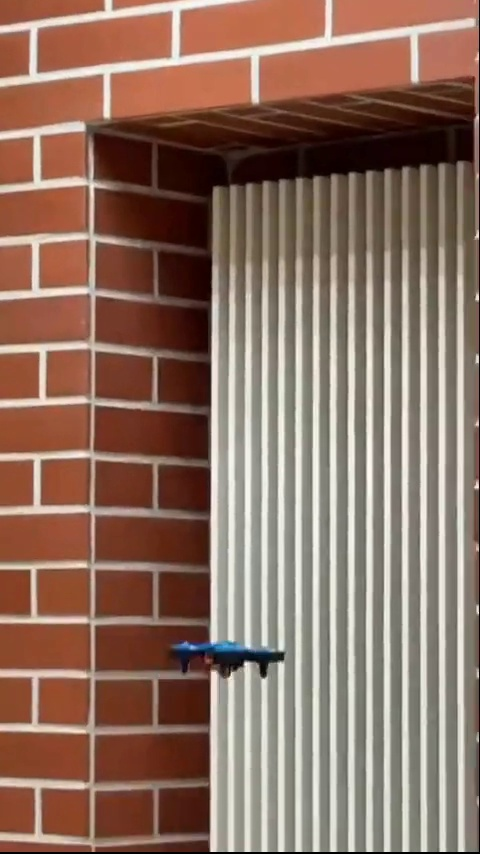drone: (171, 634, 284, 683)
